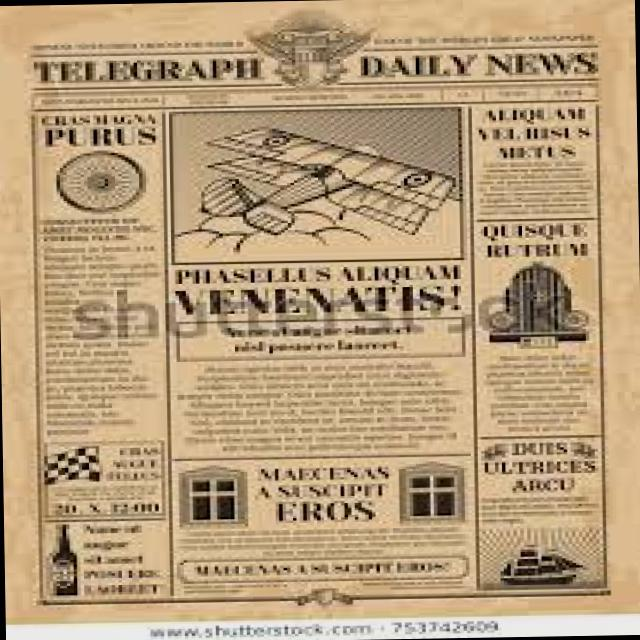paper: (10, 3, 640, 640)
